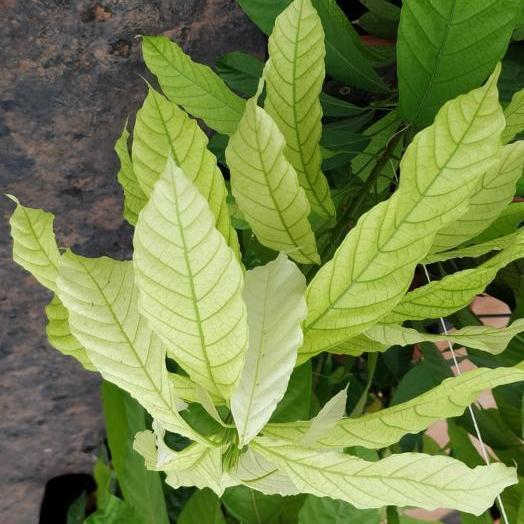Iron: (299, 65, 504, 358), (57, 251, 206, 442), (133, 158, 248, 400), (252, 437, 516, 514), (226, 97, 319, 263), (265, 0, 335, 218), (231, 253, 306, 446)
